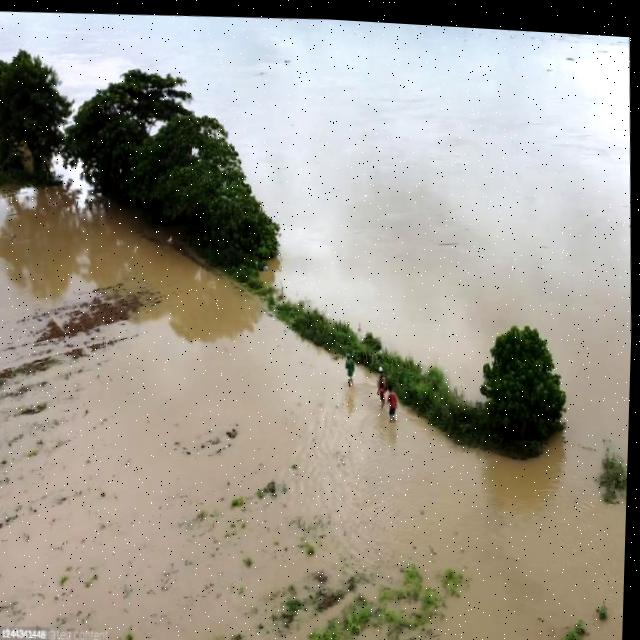civilian: (385, 387, 404, 424), (339, 353, 359, 388), (375, 369, 387, 405)
